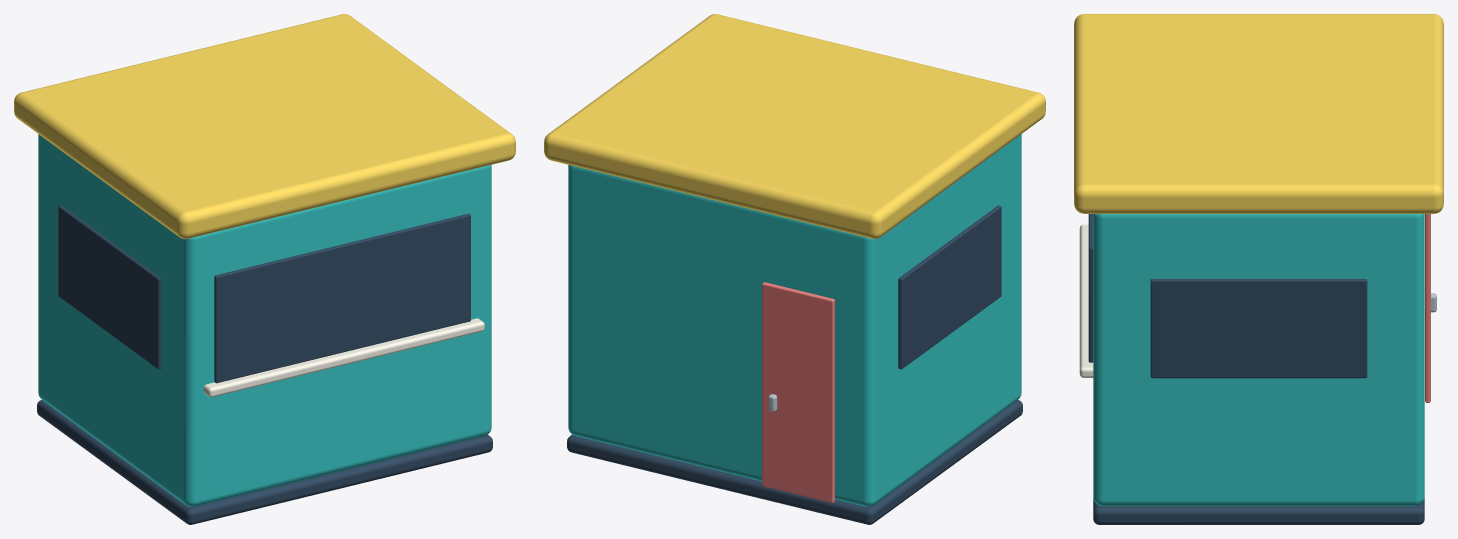
File: party-obstacle-course-party-obstacle-course-operator-b-a88eb73e__28944.glb
3 renders of one model, left to right at view 1: azimuth 30°, elevation 25°; view 2: azimuth 150°, elevation 25°; view 3: azimuth 270°, elevation 25°, orthographic. The views are drawn at different scales.
Visible parts, largest first — view 1: party-obstacle-course-operator-booth; view 2: party-obstacle-course-operator-booth; view 3: party-obstacle-course-operator-booth.
Part boxes in pixels (left/top/right/bottom): party-obstacle-course-operator-booth: left=14, top=14, right=515, bottom=524; party-obstacle-course-operator-booth: left=544, top=14, right=1045, bottom=524; party-obstacle-course-operator-booth: left=1074, top=14, right=1443, bottom=524.
Bounding box in the file's own units: 3.3 × 3 × 2.9.
